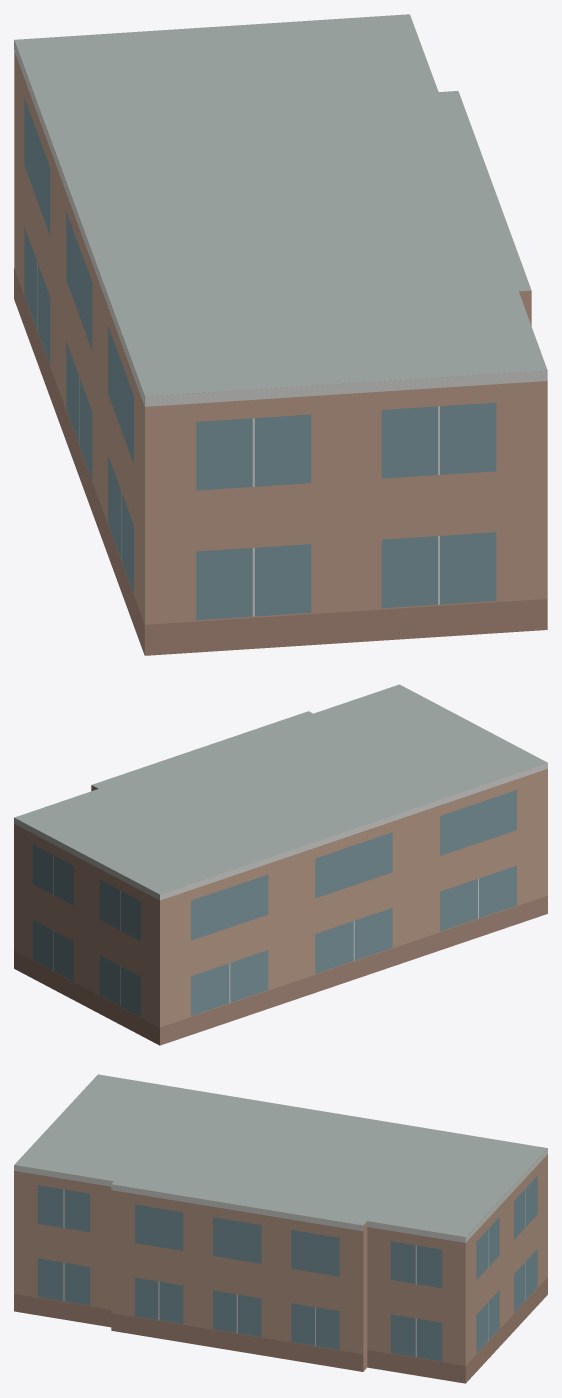
The model's file is survey-upis-32823212.glb.
3 views of the same model, one above another, from view 1: azimuth 30°, elevation 25°; view 2: azimuth 150°, elevation 25°; view 3: azimuth 270°, elevation 25° (orthographic). The views are drawn at different scales.
Parts seen in each view (by area): view 1: survey-upis-32823212.tmp; view 2: survey-upis-32823212.tmp; view 3: survey-upis-32823212.tmp.
Boxes of the visible parts, x1,y1,x2,y2 form: survey-upis-32823212.tmp: (14, 14, 547, 655); survey-upis-32823212.tmp: (14, 684, 547, 1045); survey-upis-32823212.tmp: (14, 1074, 547, 1383).
Size of the model in its own units: 14.55 by 6.1 by 20.16.
